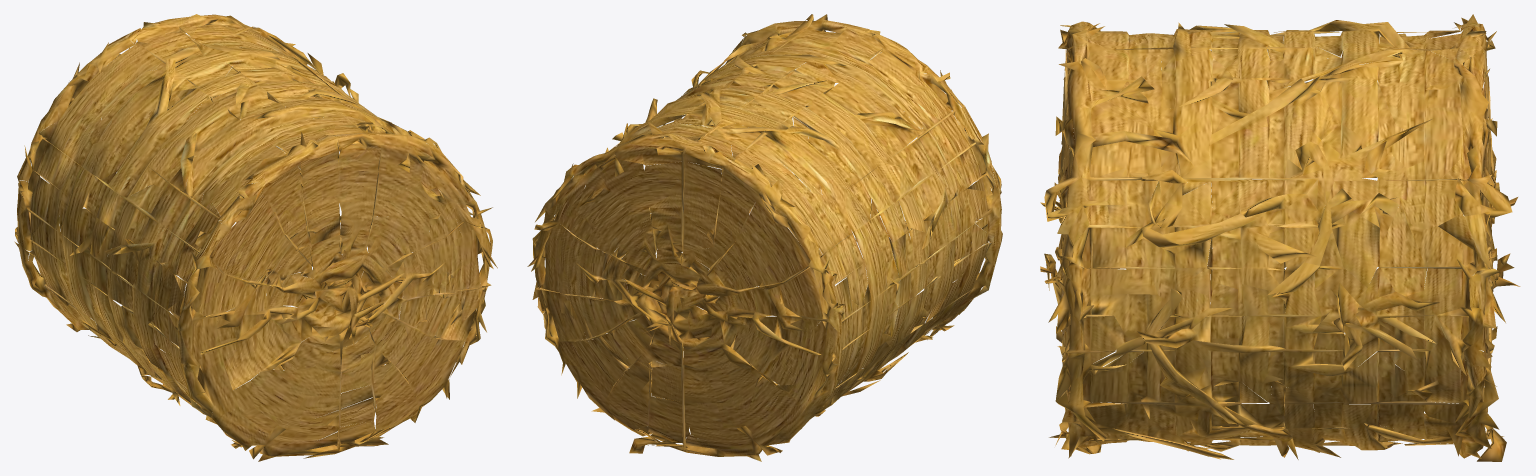
File: fardo-feno.glb
The picture shows the model from 3 angles, left to right: view 1: azimuth 30°, elevation 25°; view 2: azimuth 150°, elevation 25°; view 3: azimuth 270°, elevation 25°; orthographic projection. The views are drawn at different scales.
Visible parts, largest first — view 1: fardo-feno; view 2: fardo-feno; view 3: fardo-feno.
Part boxes in pixels (x1=…): fardo-feno: x1=14, y1=14, x2=497, y2=461; fardo-feno: x1=527, y1=14, x2=1002, y2=461; fardo-feno: x1=1040, y1=14, x2=1520, y2=461.
Size of the model in its own units: 0.8976 by 0.8784 by 0.9836.
1 material, 1 textured.
